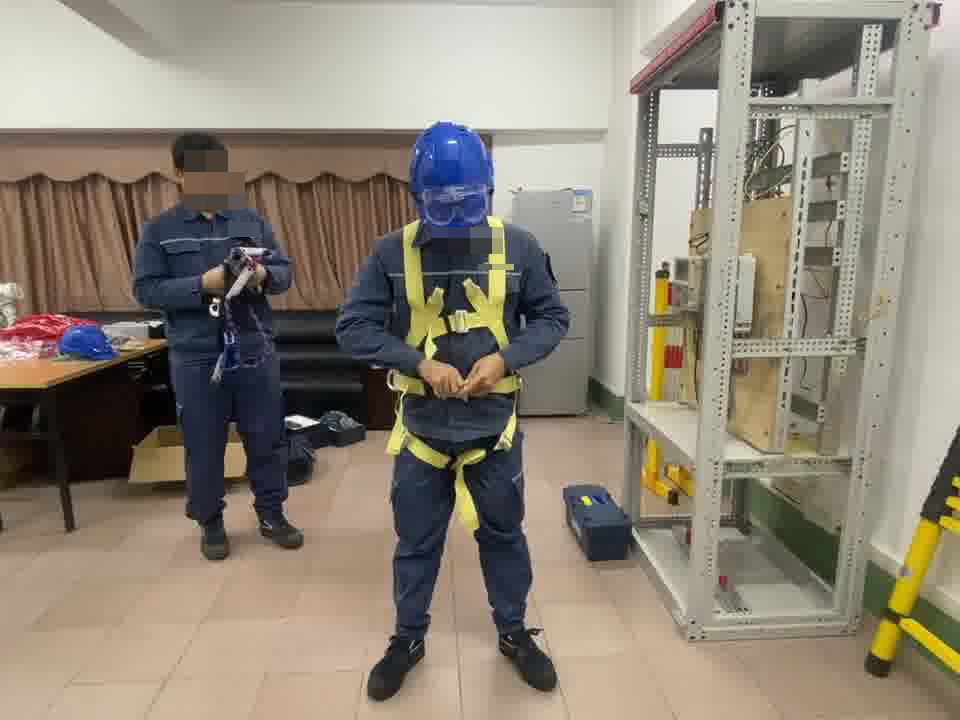downsuit: (386, 397, 537, 636), (169, 360, 294, 521)
halt: (408, 121, 498, 240)
hand: (465, 351, 510, 409), (415, 355, 464, 402), (193, 263, 233, 298)
noear: (173, 166, 190, 193)
person: (338, 119, 570, 692), (134, 133, 306, 552)
safebelt: (372, 210, 535, 539)
unhalt: (172, 133, 232, 204)
upsuit: (336, 215, 569, 394), (136, 202, 293, 341)
